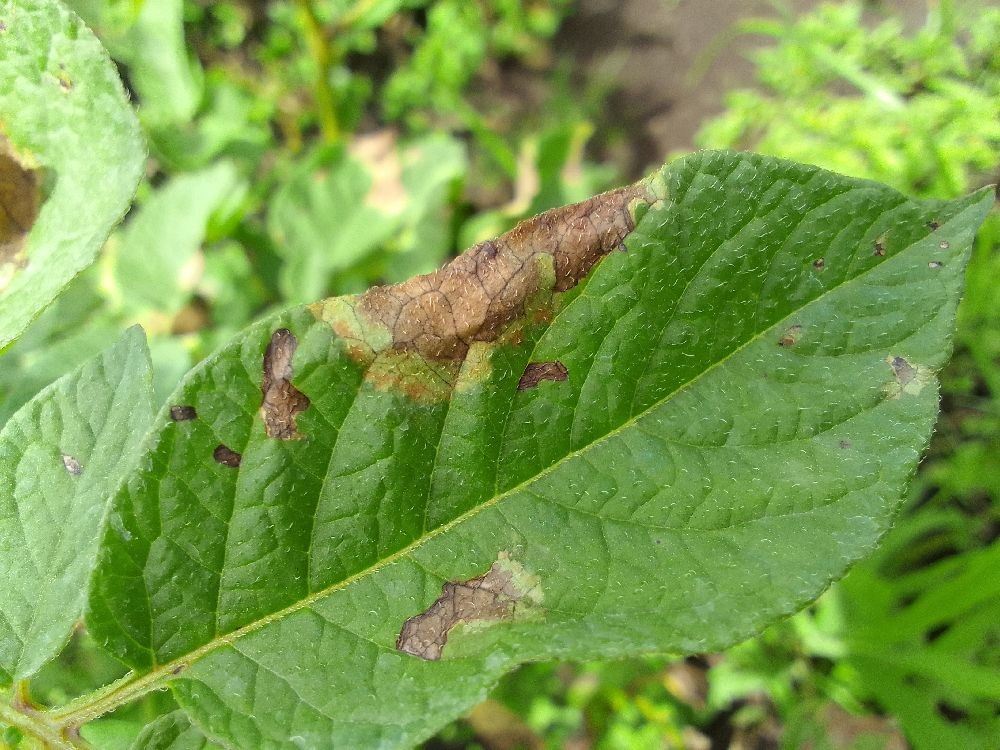late_blight: (315, 0, 954, 418), (382, 551, 532, 671), (0, 117, 57, 283), (678, 684, 796, 750)
